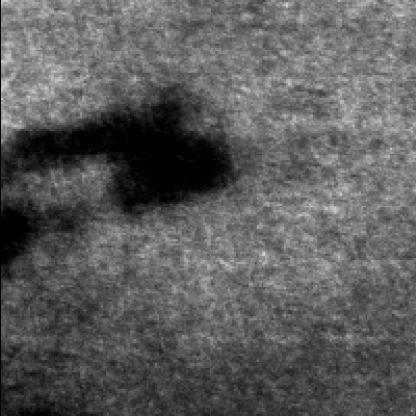patches: (17, 102, 228, 216), (0, 204, 27, 274)
